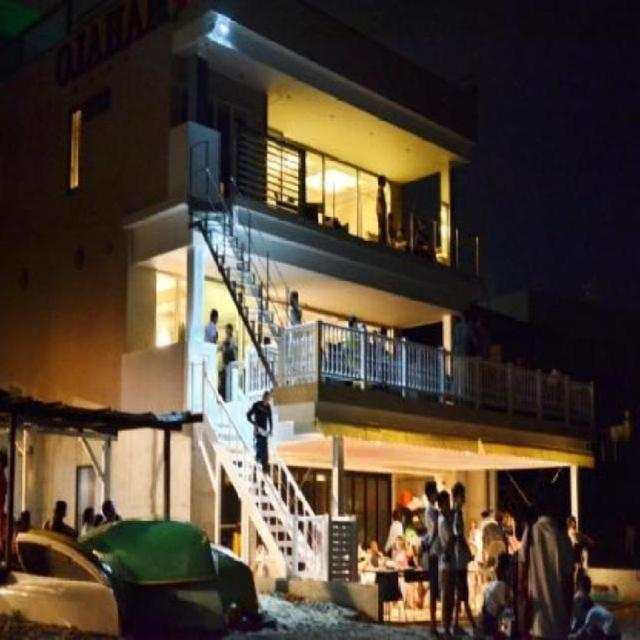stair: (203, 410, 328, 578), (191, 210, 298, 388)
